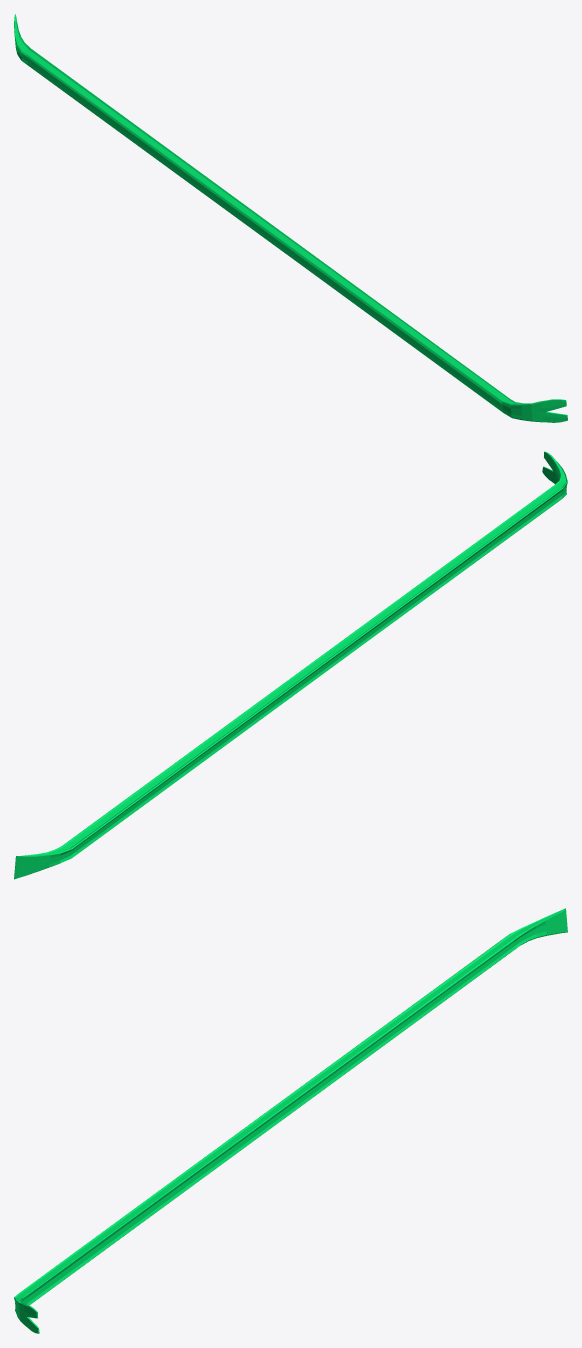
File: Pinch_bar (1).fbx
3 views of the same model, one above another, from view 1: azimuth 30°, elevation 25°; view 2: azimuth 150°, elevation 25°; view 3: azimuth 330°, elevation 25° (orthographic). The views are drawn at different scales.
Visible parts, largest first — view 1: Tool rack.002; view 2: Tool rack.002; view 3: Tool rack.002.
Part boxes in pixels (left/top/right/bottom): Tool rack.002: left=14, top=14, right=567, bottom=422; Tool rack.002: left=14, top=451, right=567, bottom=879; Tool rack.002: left=14, top=908, right=567, bottom=1333.
Size of the model in its own units: 5.77 by 3.01 by 120.
